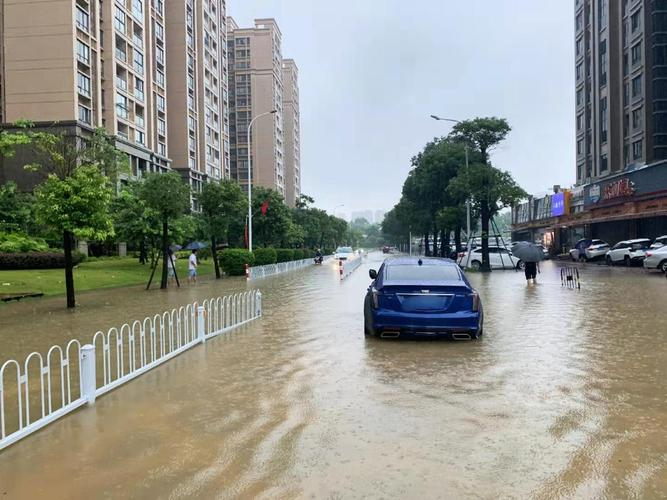puddle: (1, 289, 667, 500)
